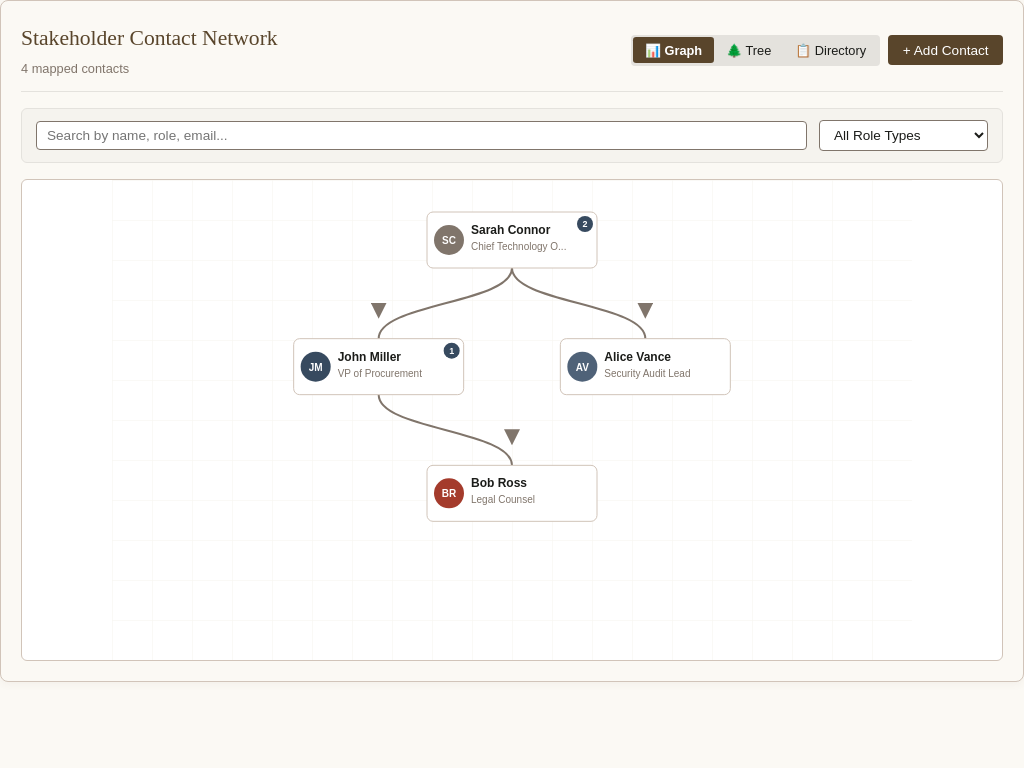
Test case: StakeholderGraph Component › User Interactions & Views › switches view modes to Tree and Directory Table
The width and height of the screenshot is (1024, 768).
Note: Switch to Tree view
Click the tab with test id "view-mode-tree" at coordinates (749, 50), box [714,37,783,63]
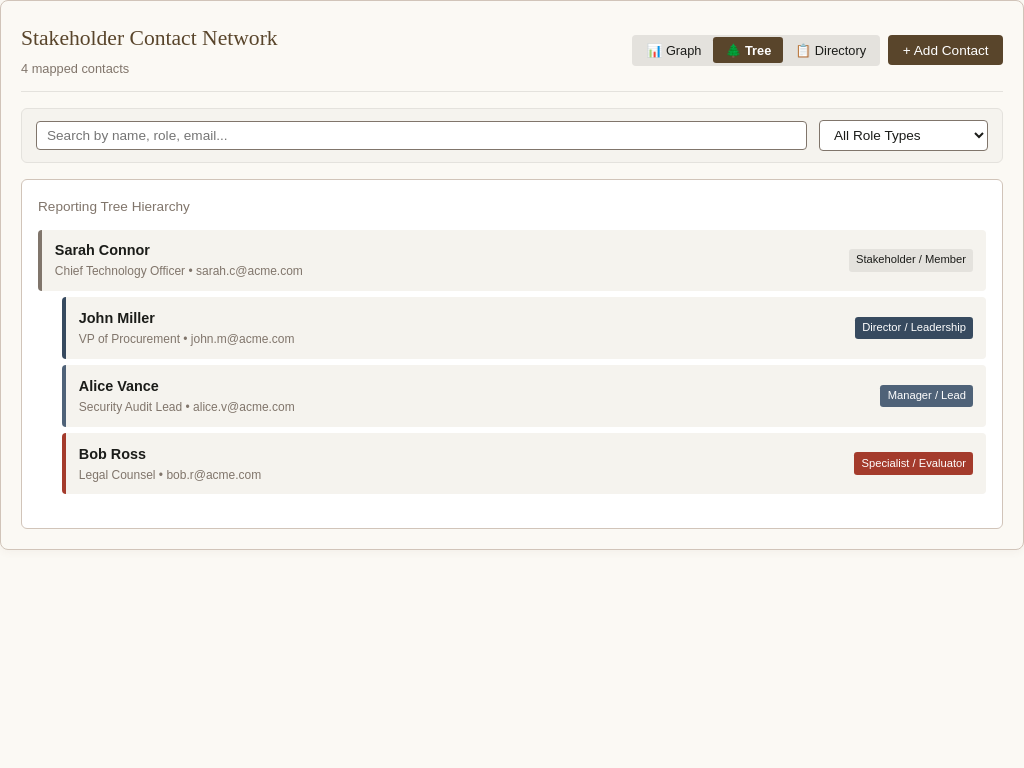
Result: the element with test id "stakeholder-tree-view" is shown at [21,179,1003,529]
Result: the element with test id "tree-node-node-1" is shown at [38,230,986,291]
Note: Switch to Table view
Click the tab with test id "view-mode-table" at coordinates (831, 50), box [783,37,878,63]
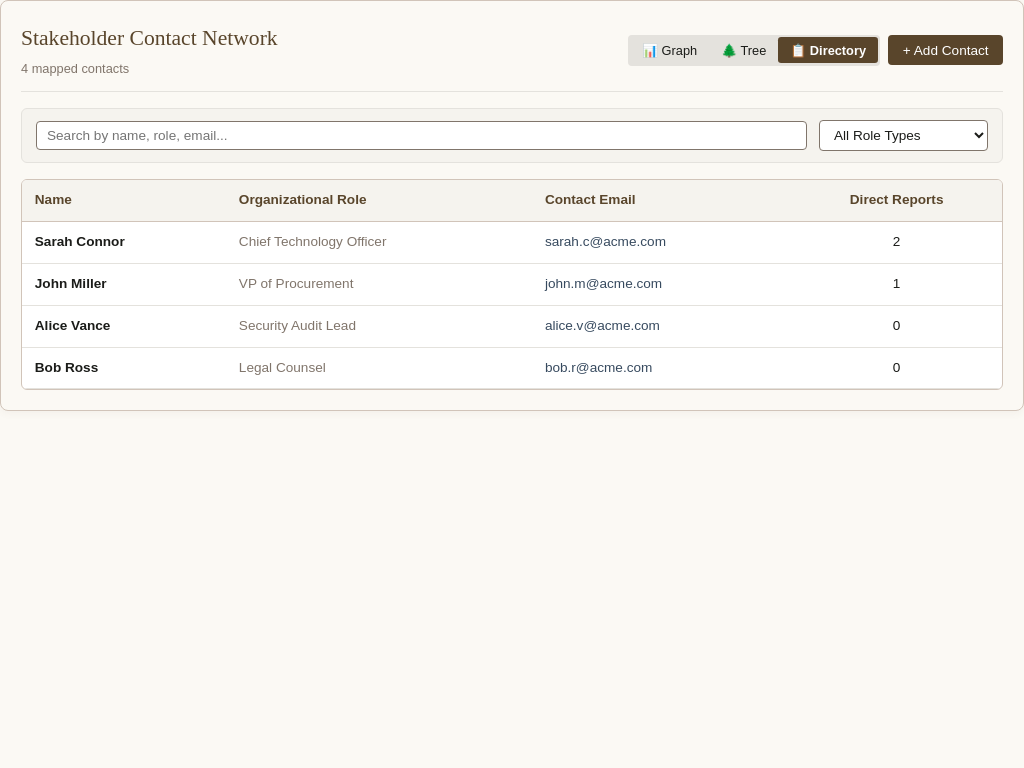
Result: the element with test id "stakeholder-table-view" is shown at [21,179,1003,390]
Result: the row with test id "table-node-node-1" is shown at [22,221,1002,263]
